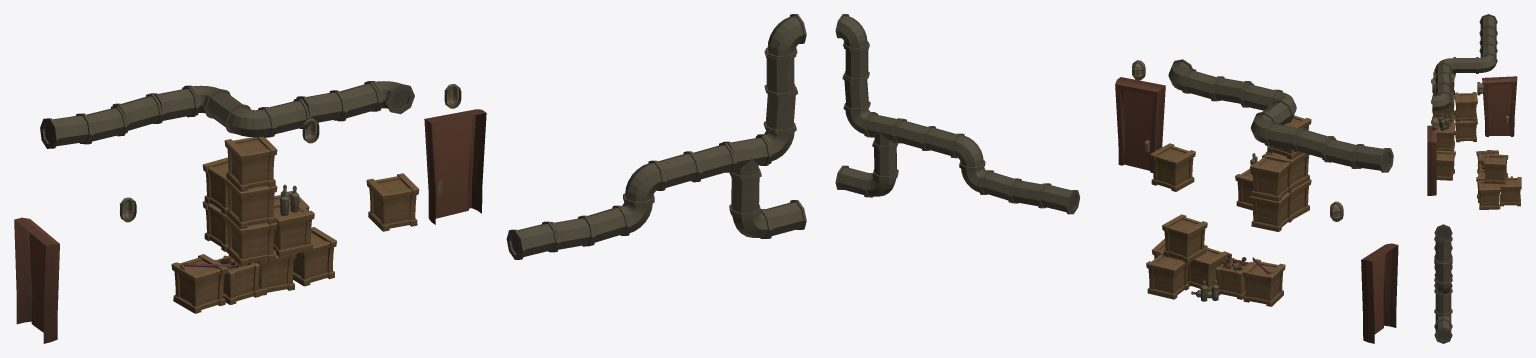
Rendered from SM_Setdressing_Level1_Pipes_and_Boxes.fbx.
3 renders of one model, left to right at view 1: azimuth 30°, elevation 25°; view 2: azimuth 150°, elevation 25°; view 3: azimuth 270°, elevation 25°, orthographic. The views are drawn at different scales.
Visible parts, largest first — view 1: SM_Setdressing_Level1_Pipes_and_Boxes; view 2: SM_Setdressing_Level1_Pipes_and_Boxes; view 3: SM_Setdressing_Level1_Pipes_and_Boxes.
Boxes of the visible parts, x1,y1,x2,y2 form: SM_Setdressing_Level1_Pipes_and_Boxes: [14, 14, 806, 343]; SM_Setdressing_Level1_Pipes_and_Boxes: [835, 14, 1398, 343]; SM_Setdressing_Level1_Pipes_and_Boxes: [1427, 14, 1521, 343].
Size of the model in its own units: 2024 by 420 by 686.
